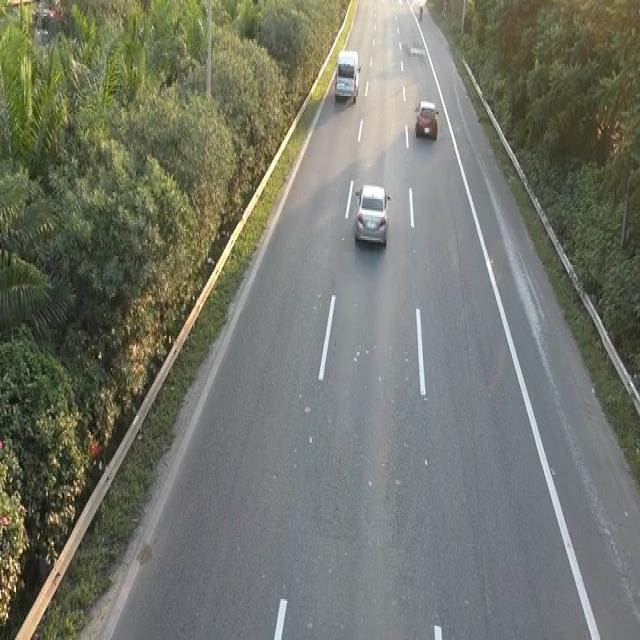bus: (351, 180, 393, 254), (413, 96, 439, 140)
jeep: (332, 46, 361, 103)
